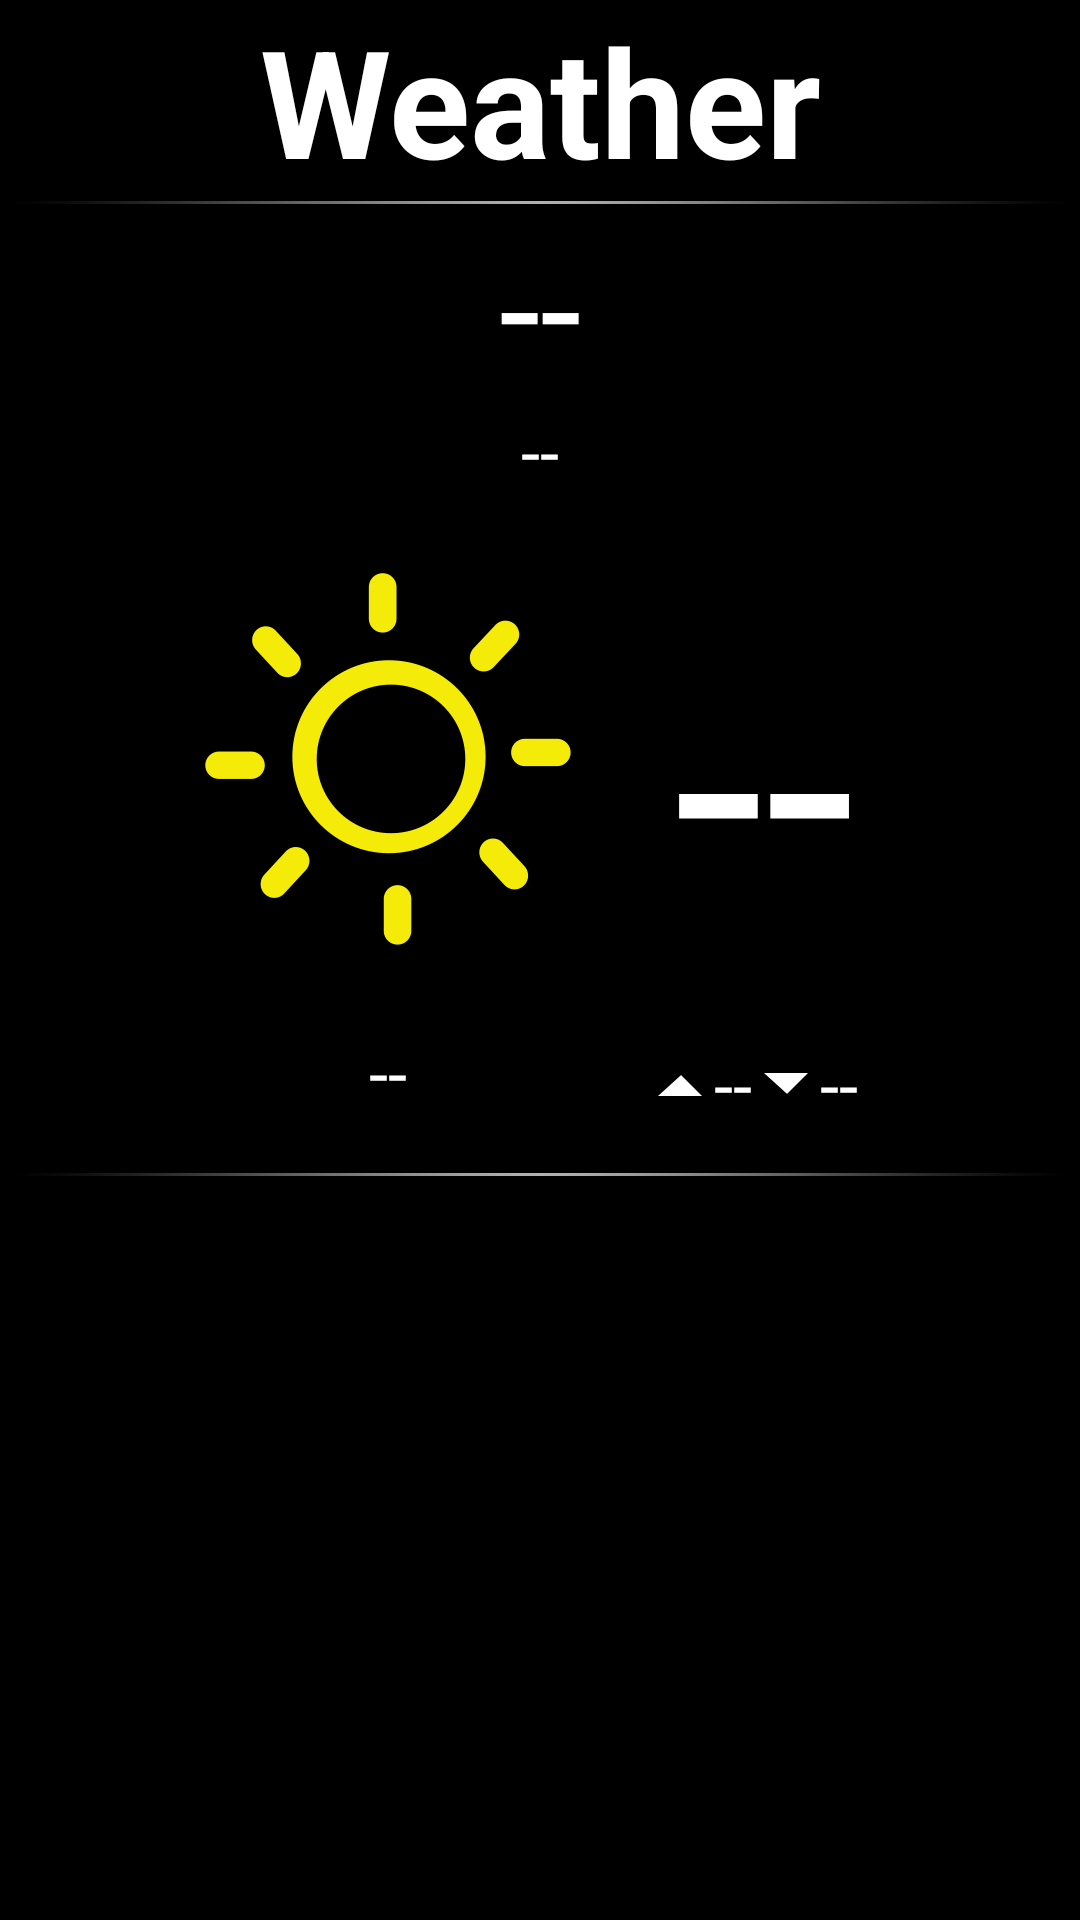

Named icons in this screenshot (1080w x 1920h) and their centers, point (x, y):
down: point (786, 1083)
